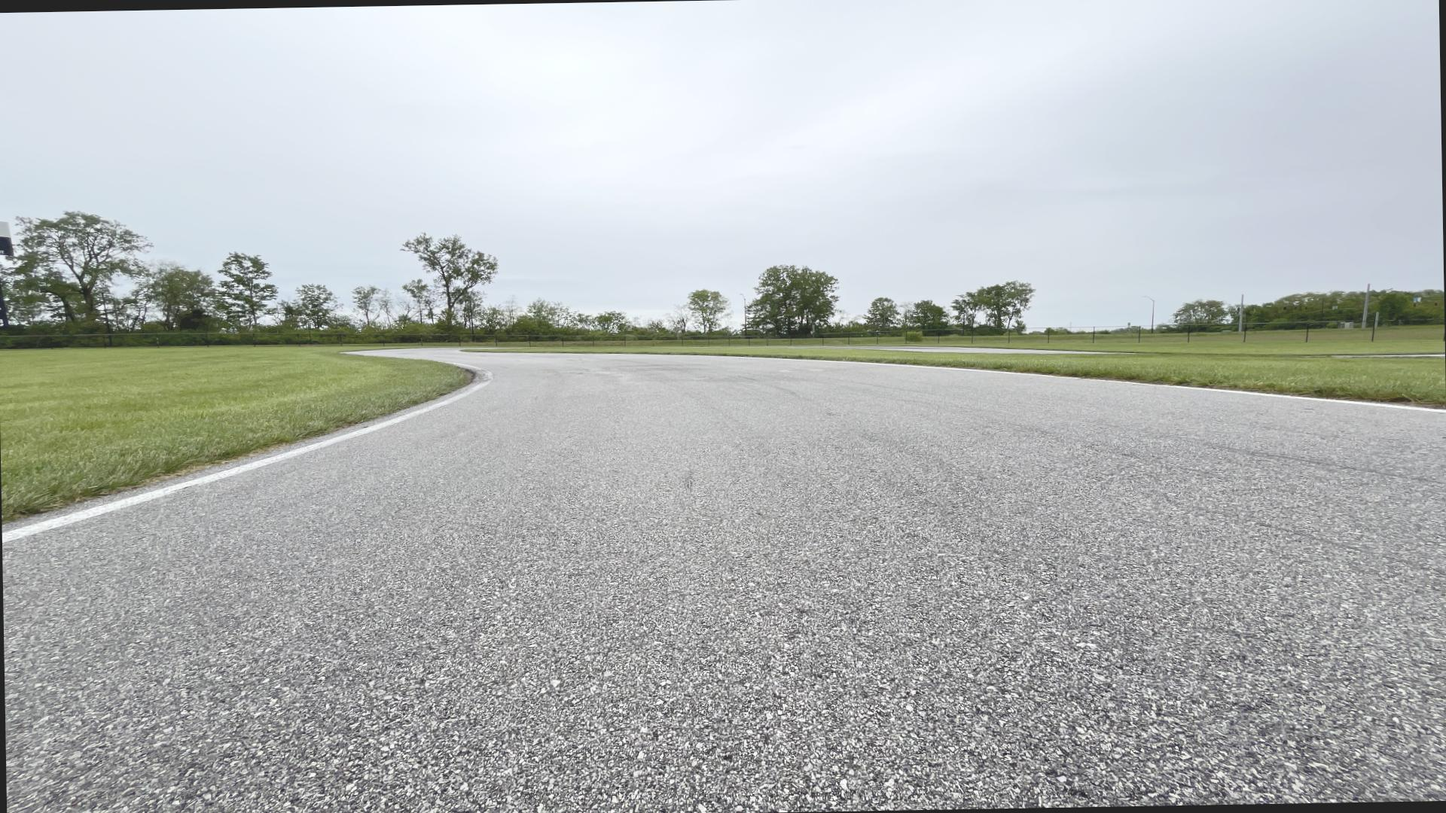white-line: (2, 361, 493, 546), (641, 354, 1445, 414)
